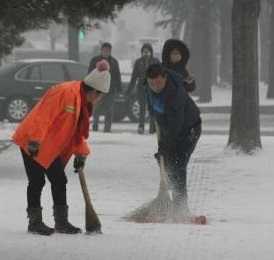person: (10, 61, 112, 237), (140, 57, 202, 225), (126, 42, 163, 136), (86, 42, 120, 133), (159, 32, 202, 92)
